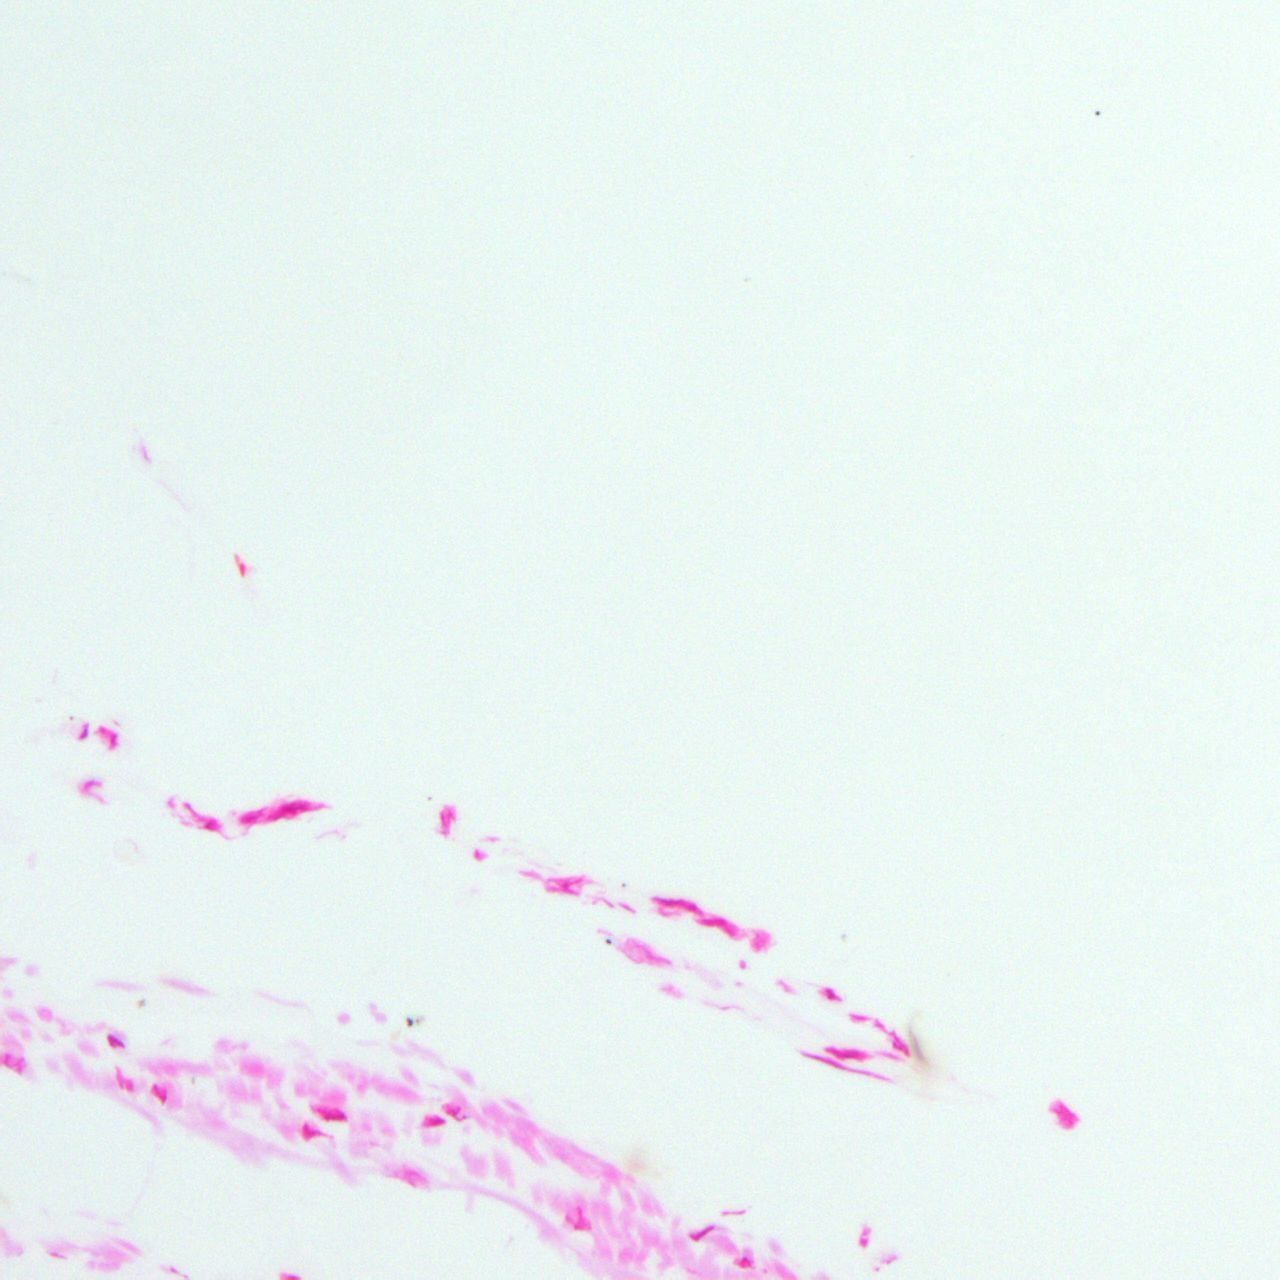dust: (136, 998, 147, 1008), (404, 1016, 413, 1028), (604, 937, 613, 945), (840, 932, 847, 941), (427, 794, 433, 803), (620, 881, 626, 888), (1095, 109, 1099, 115), (68, 716, 73, 720)
nucleus-FG: (798, 1049, 883, 1084), (270, 802, 315, 819), (825, 1047, 869, 1060), (689, 1224, 716, 1244), (559, 877, 585, 894), (104, 1032, 125, 1051), (444, 1109, 469, 1125), (1057, 1099, 1077, 1119), (150, 1083, 168, 1104), (651, 896, 679, 908), (300, 1124, 318, 1141), (573, 1205, 584, 1231), (697, 919, 723, 927), (241, 813, 264, 823), (425, 1118, 447, 1128), (620, 901, 636, 913), (77, 728, 89, 743), (108, 731, 120, 747), (324, 1114, 348, 1121), (0, 1053, 12, 1067), (849, 1014, 869, 1022), (200, 821, 217, 830), (824, 987, 835, 1000), (737, 1257, 750, 1266), (892, 1042, 905, 1051), (602, 899, 615, 908), (281, 1274, 300, 1280), (440, 813, 445, 828)
